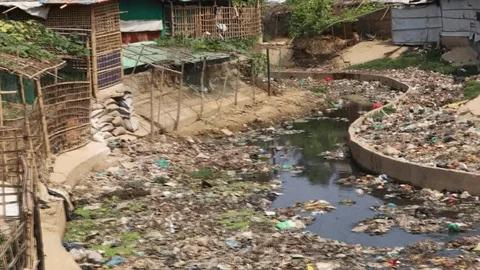Stagnant water: (269, 105, 378, 270)
Trash: (67, 149, 267, 269), (387, 45, 480, 186)
